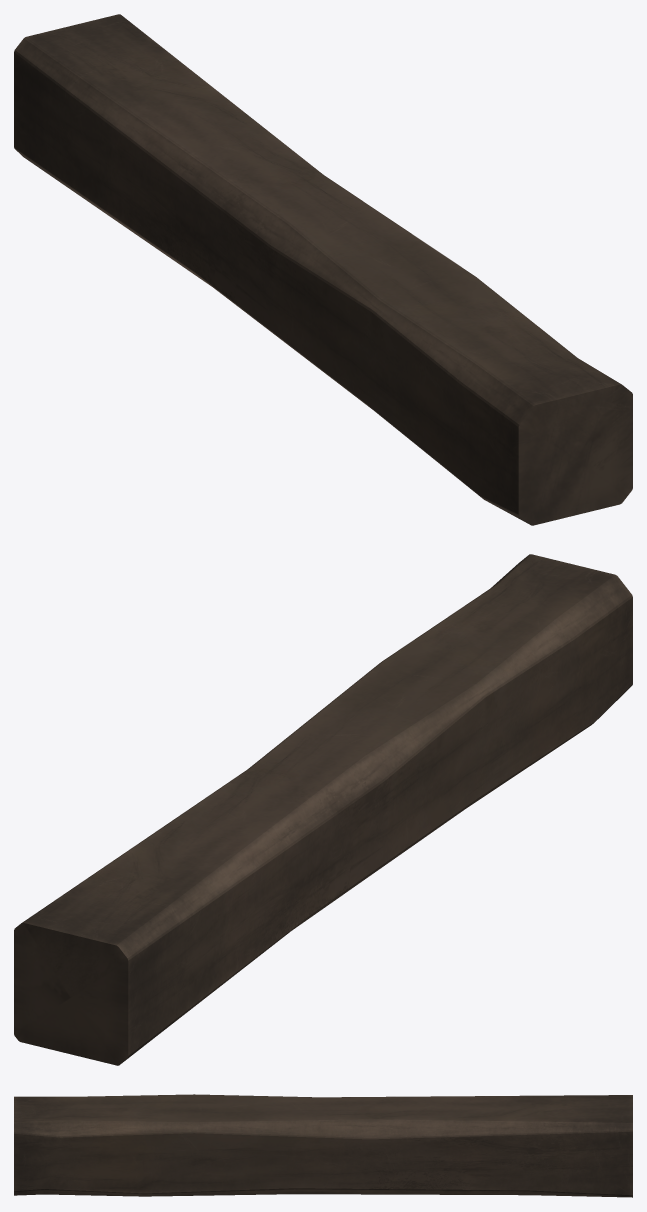
File: MKMine_Gate_Beam2Hor.fbx
The picture shows the model from 3 angles, top to bottom: view 1: azimuth 30°, elevation 25°; view 2: azimuth 150°, elevation 25°; view 3: azimuth 270°, elevation 25°; orthographic projection. The views are drawn at different scales.
Visible parts, largest first — view 1: pillar_2_original.002; view 2: pillar_2_original.002; view 3: pillar_2_original.002.
Part boxes in pixels (x1=…): pillar_2_original.002: x1=14, y1=14, x2=632, y2=525; pillar_2_original.002: x1=14, y1=554, x2=632, y2=1065; pillar_2_original.002: x1=14, y1=1094, x2=632, y2=1197.
Size of the model in its own units: 382 by 49.93 by 50.08.
